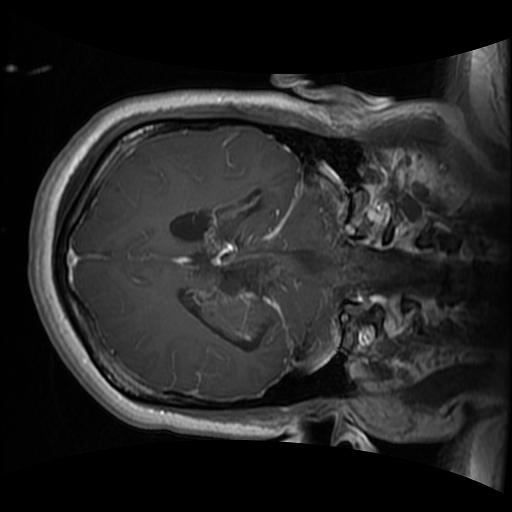glioma: (167, 193, 292, 357)
